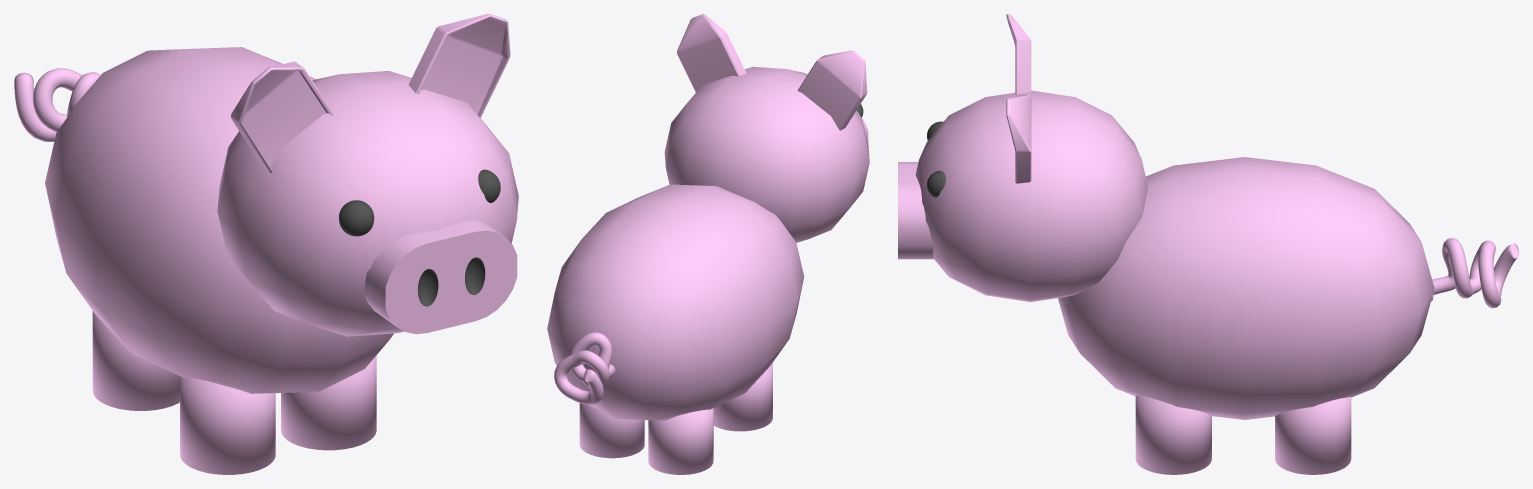
Rendered from pet-pig.glb.
3 views of the same model, side by side, from view 1: azimuth 30°, elevation 25°; view 2: azimuth 150°, elevation 25°; view 3: azimuth 270°, elevation 25° (orthographic). The views are drawn at different scales.
Size of the model in its own units: 0.00896 by 0.0145 by 0.0214.
4 materials, 3 textured.
